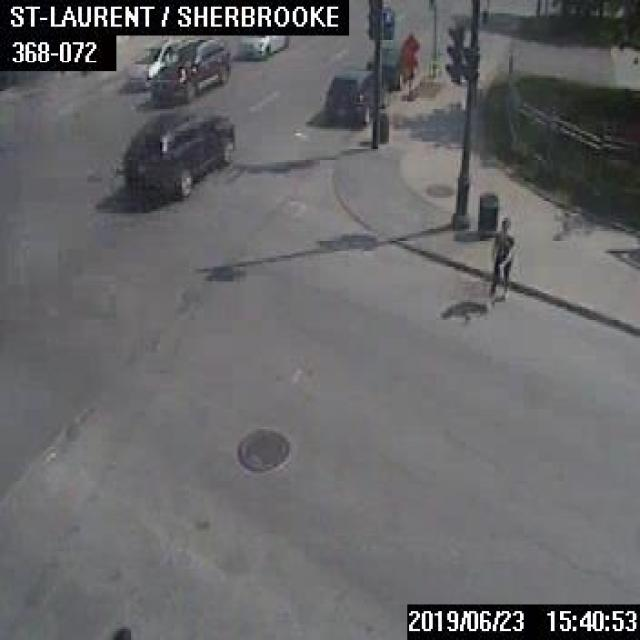construction: (401, 33, 418, 100)
pedestrian: (489, 218, 511, 298)
vehicle: (120, 109, 233, 193), (150, 36, 231, 98), (318, 69, 388, 124), (124, 37, 188, 87), (364, 42, 416, 86), (237, 31, 286, 56)
